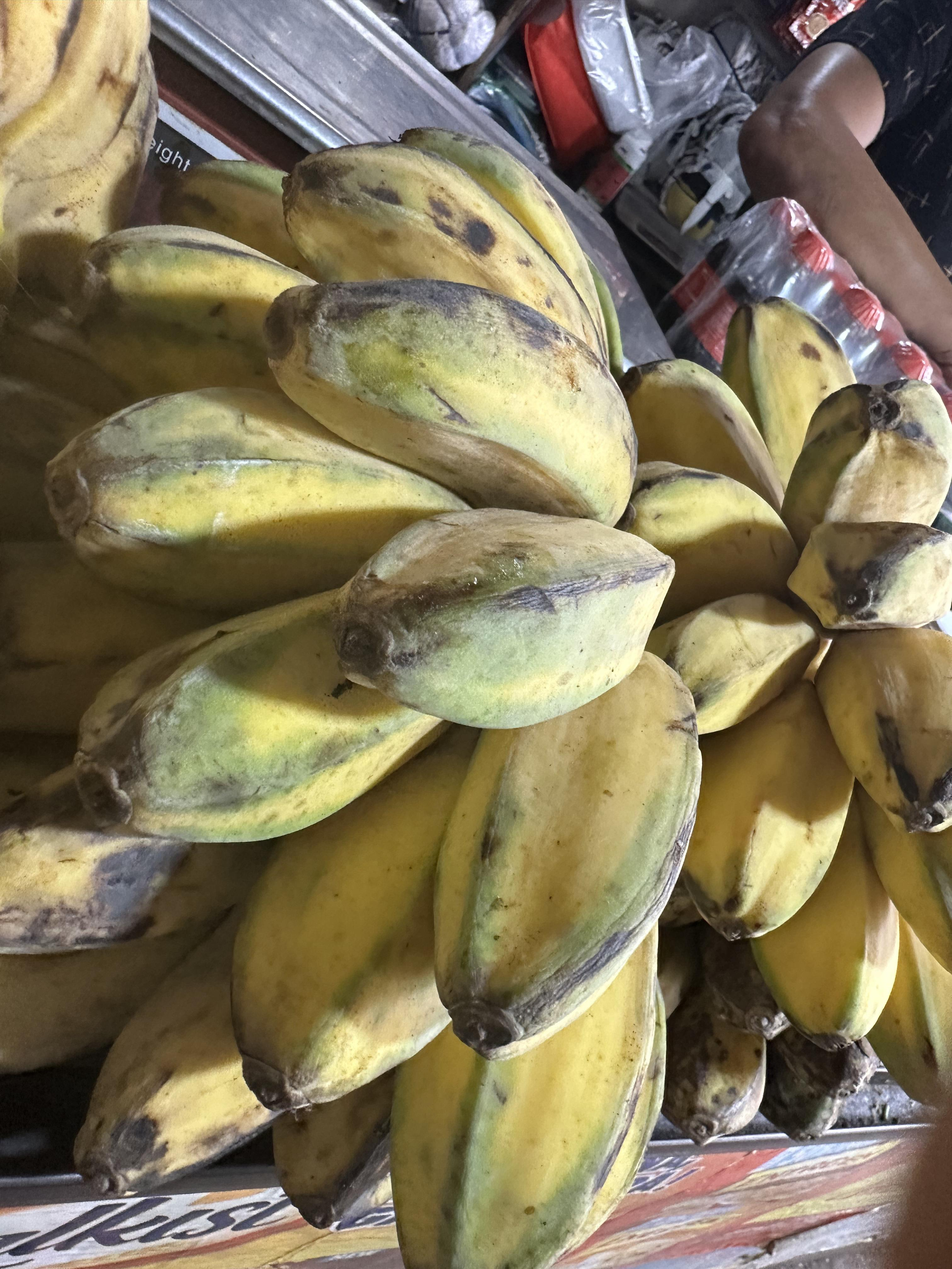ripe: (0, 292, 393, 1227), (621, 299, 952, 1100)
underripe: (46, 129, 700, 1269)
